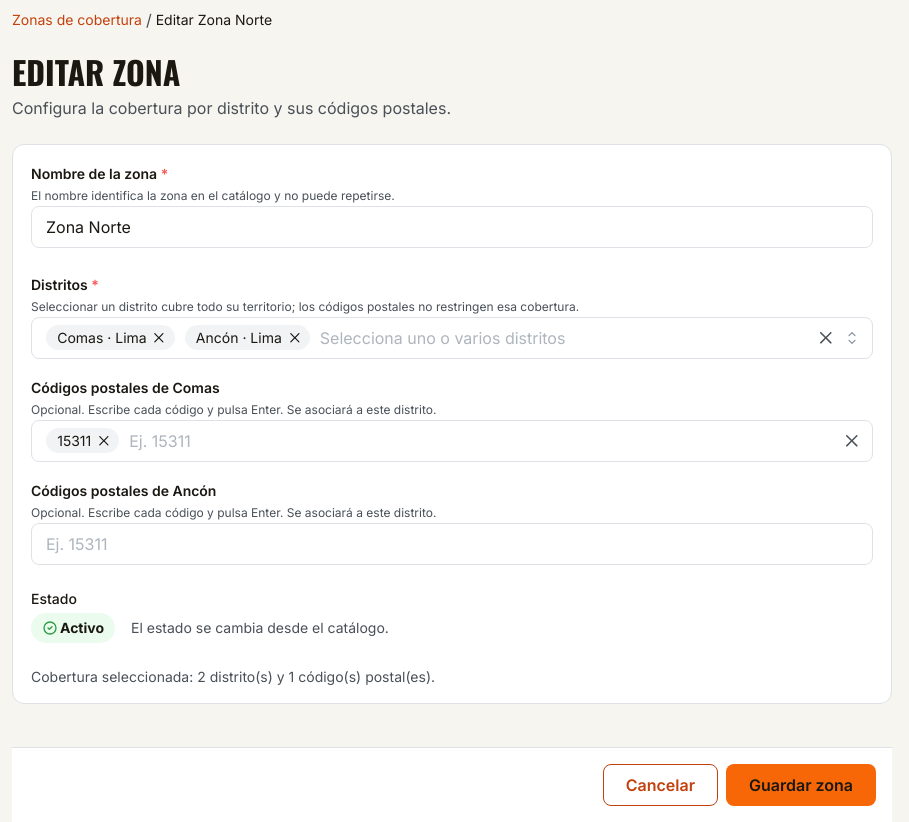
Test case: precarga y conserva los códigos de cada distrito al editar; un conflicto no borra los cambios
This screenshot has width=909, height=822.
Replace the text in the field labelled "Nombre de la zona" with "Zona editada" at (452,227), box 31,206 -> 873,248
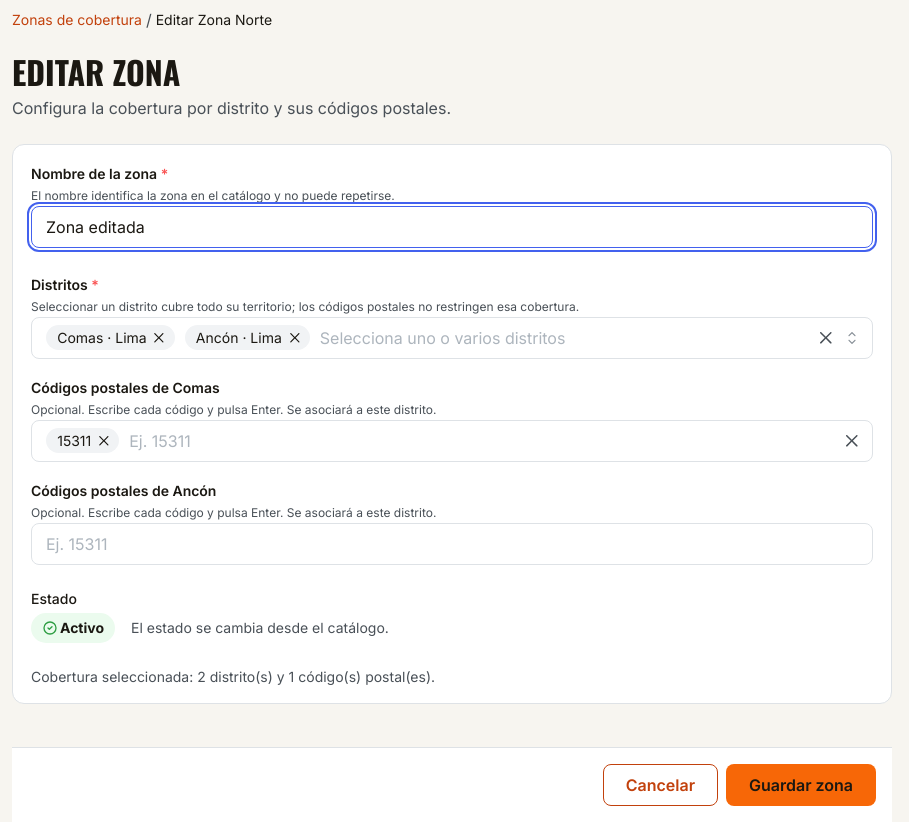
Type "15123" into the dropdown labelled "Códigos postales de Ancón".
click(452, 544); type("15123")  # box 46,531 -> 858,557
Then press Enter
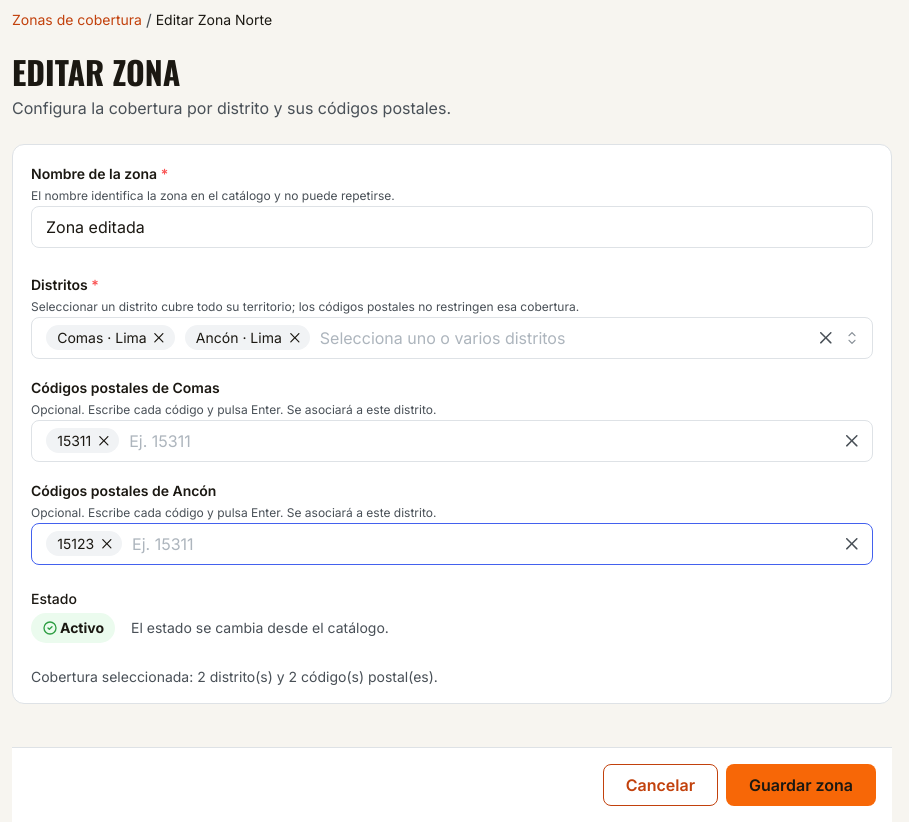
Click the button "Guardar zona".
click(801, 785)  # box 726,764 -> 876,806
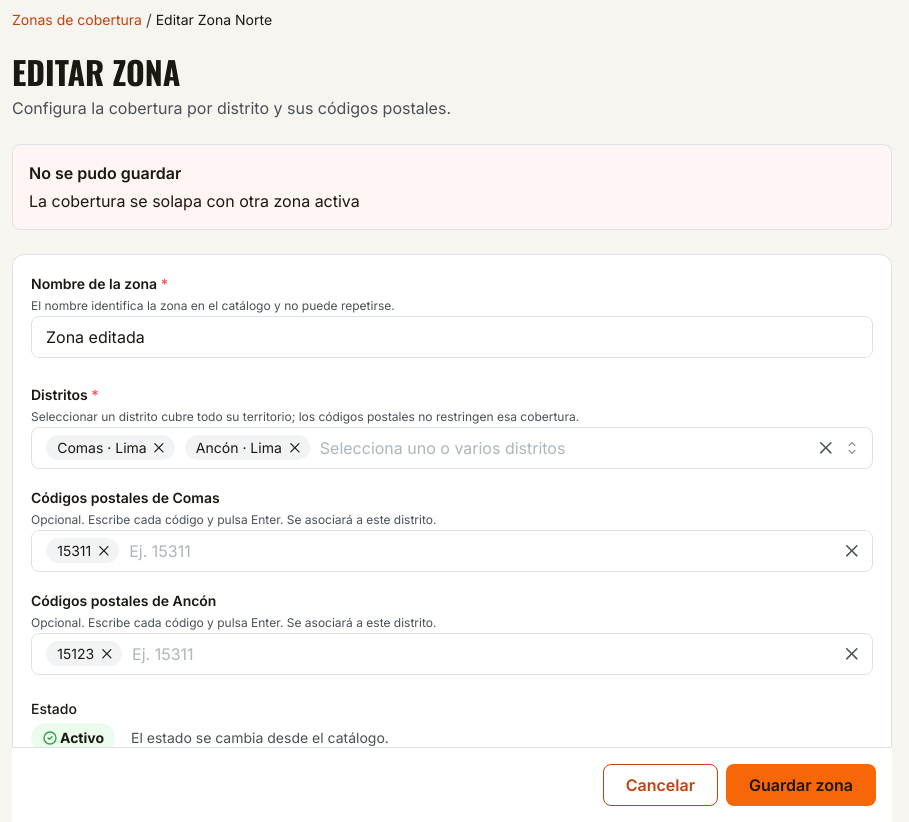
Expected: the text "La cobertura se solapa con otra zona activa" is shown, 29,191 -> 360,211
